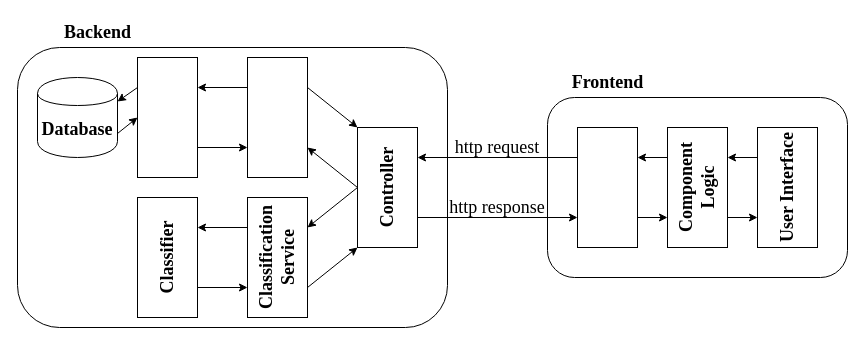
Image size: 865x345. Some labels were removed from this diagram. Here are the shapes that lost their labels. From the top down, the box of each, then its label:
(136, 56, 198, 178): DB Driver
(246, 56, 308, 178): Articles Service
(576, 126, 638, 248): Service
